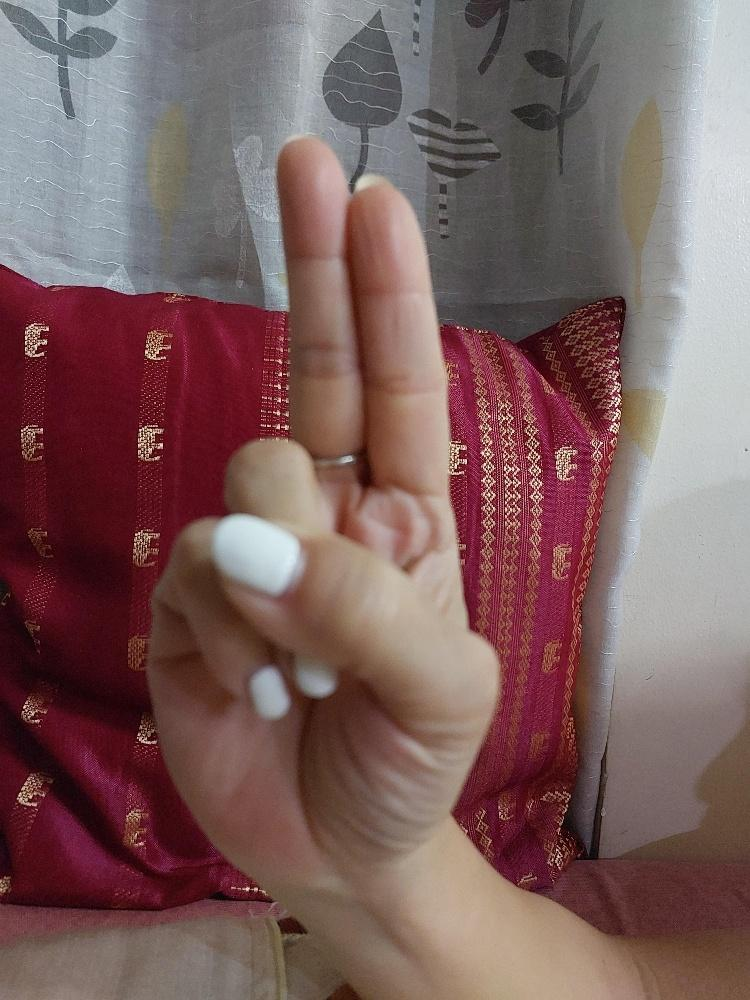u: (141, 129, 506, 886)
